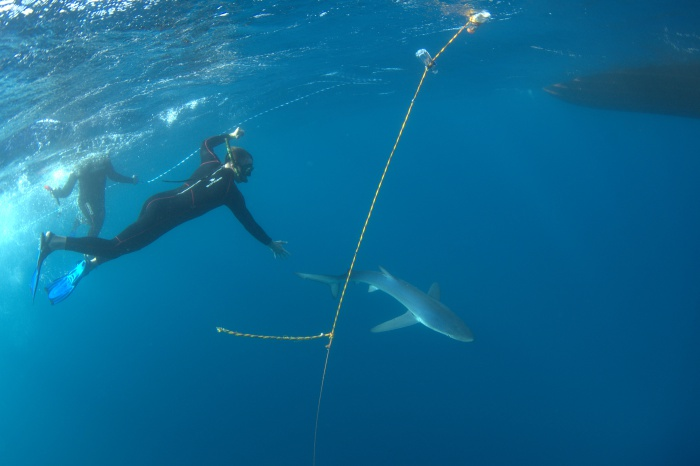Azul: (286, 250, 535, 358)
